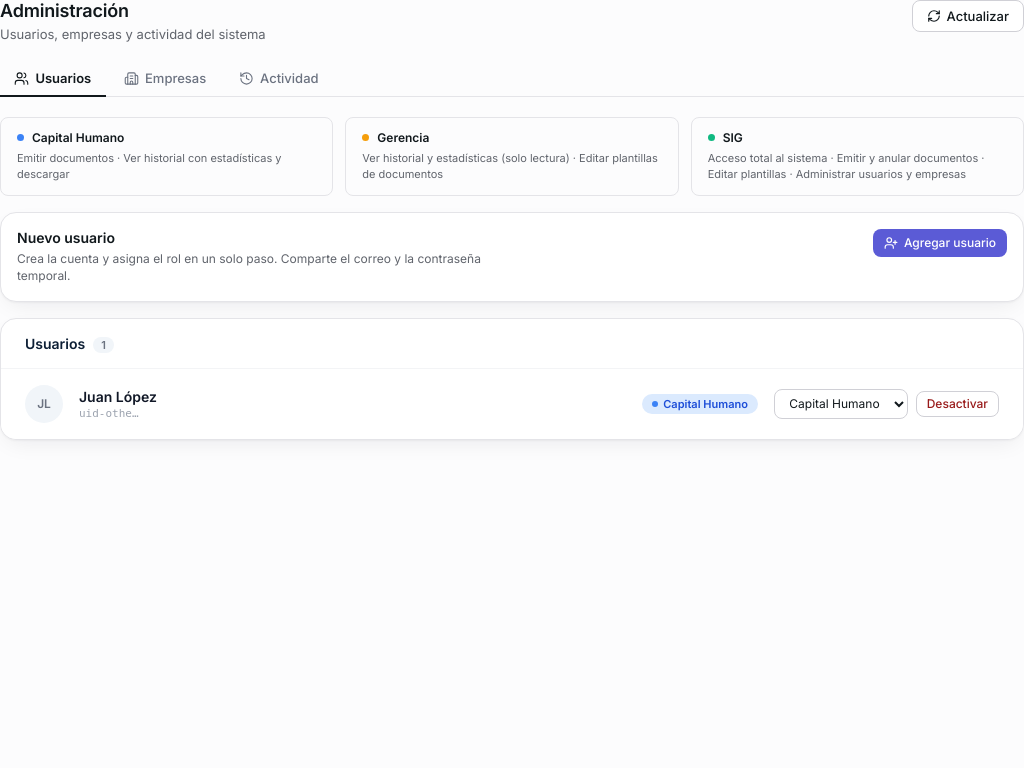
cambiarActivo › deactivates another user after confirming in the modal
expect the text "Juan López" is shown: met, box top-left (79, 388), bottom-right (157, 405)
// El botón de la fila abre el modal de confirmación
Step 1. Click the button "Desactivar" → x=957, y=404, box top-left (916, 391), bottom-right (999, 417)
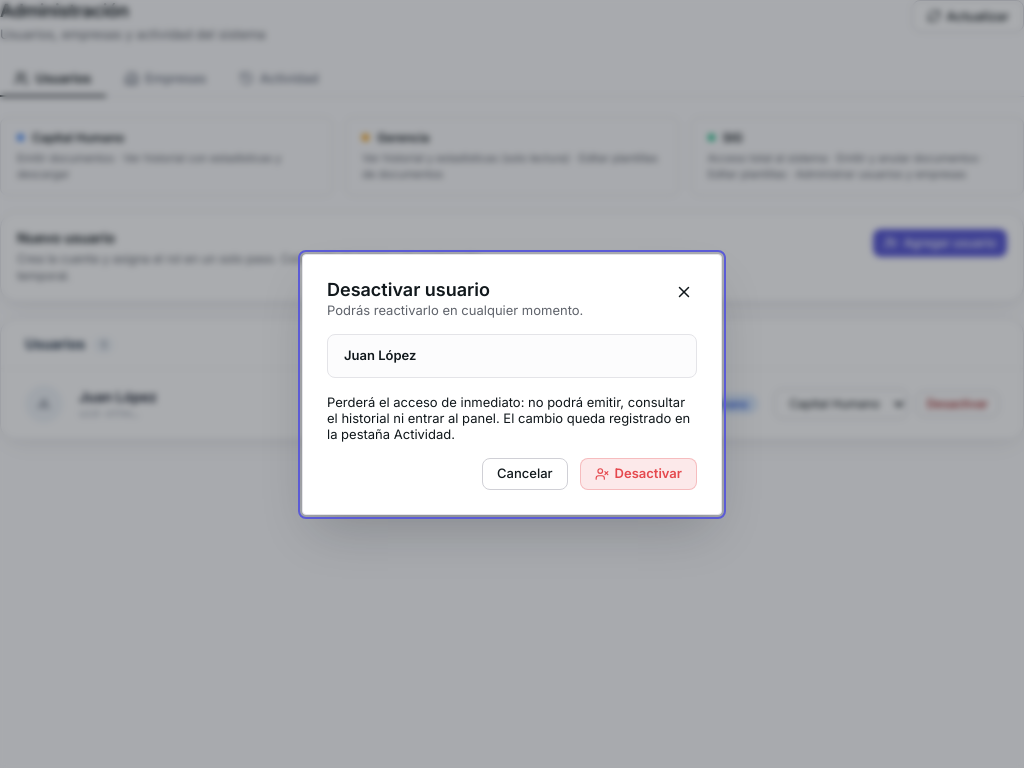
expect the text "Desactivar usuario" is shown: met, box top-left (327, 278), bottom-right (490, 300)
// Confirmar dentro del modal
Step 2. Click the button "Desactivar" → x=638, y=474, box top-left (580, 458), bottom-right (697, 490)
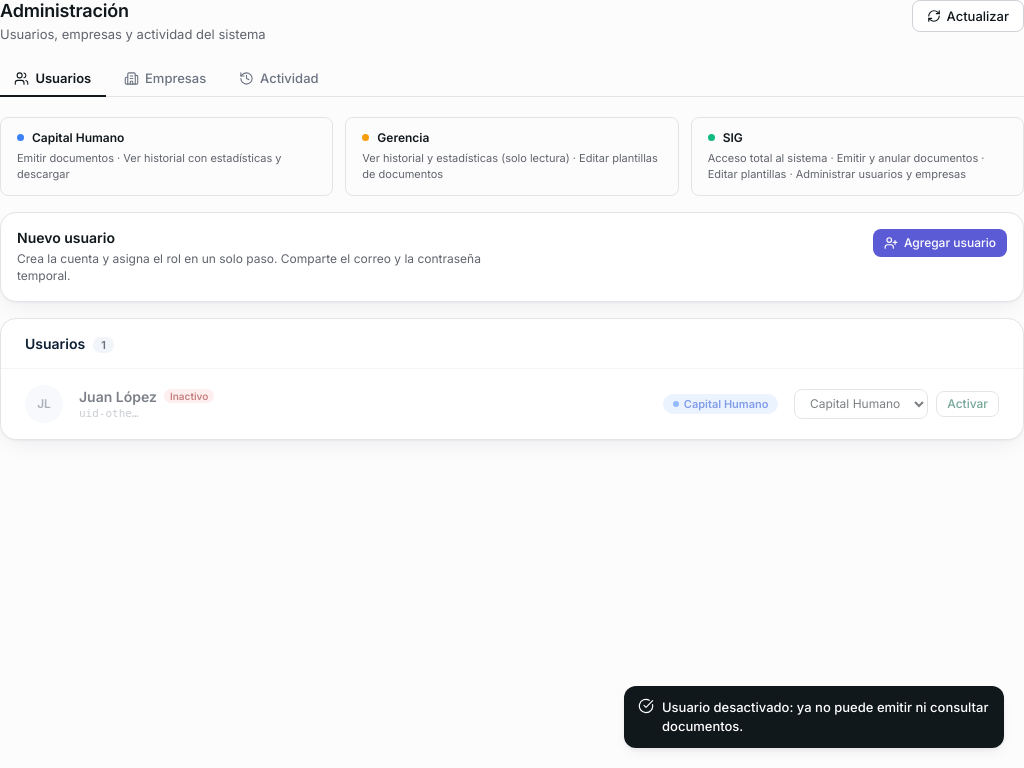
expect the button "Activar" is shown: met, box top-left (936, 391), bottom-right (999, 417)
expect the text "Inactivo" is shown: met, box top-left (164, 389), bottom-right (214, 403)
